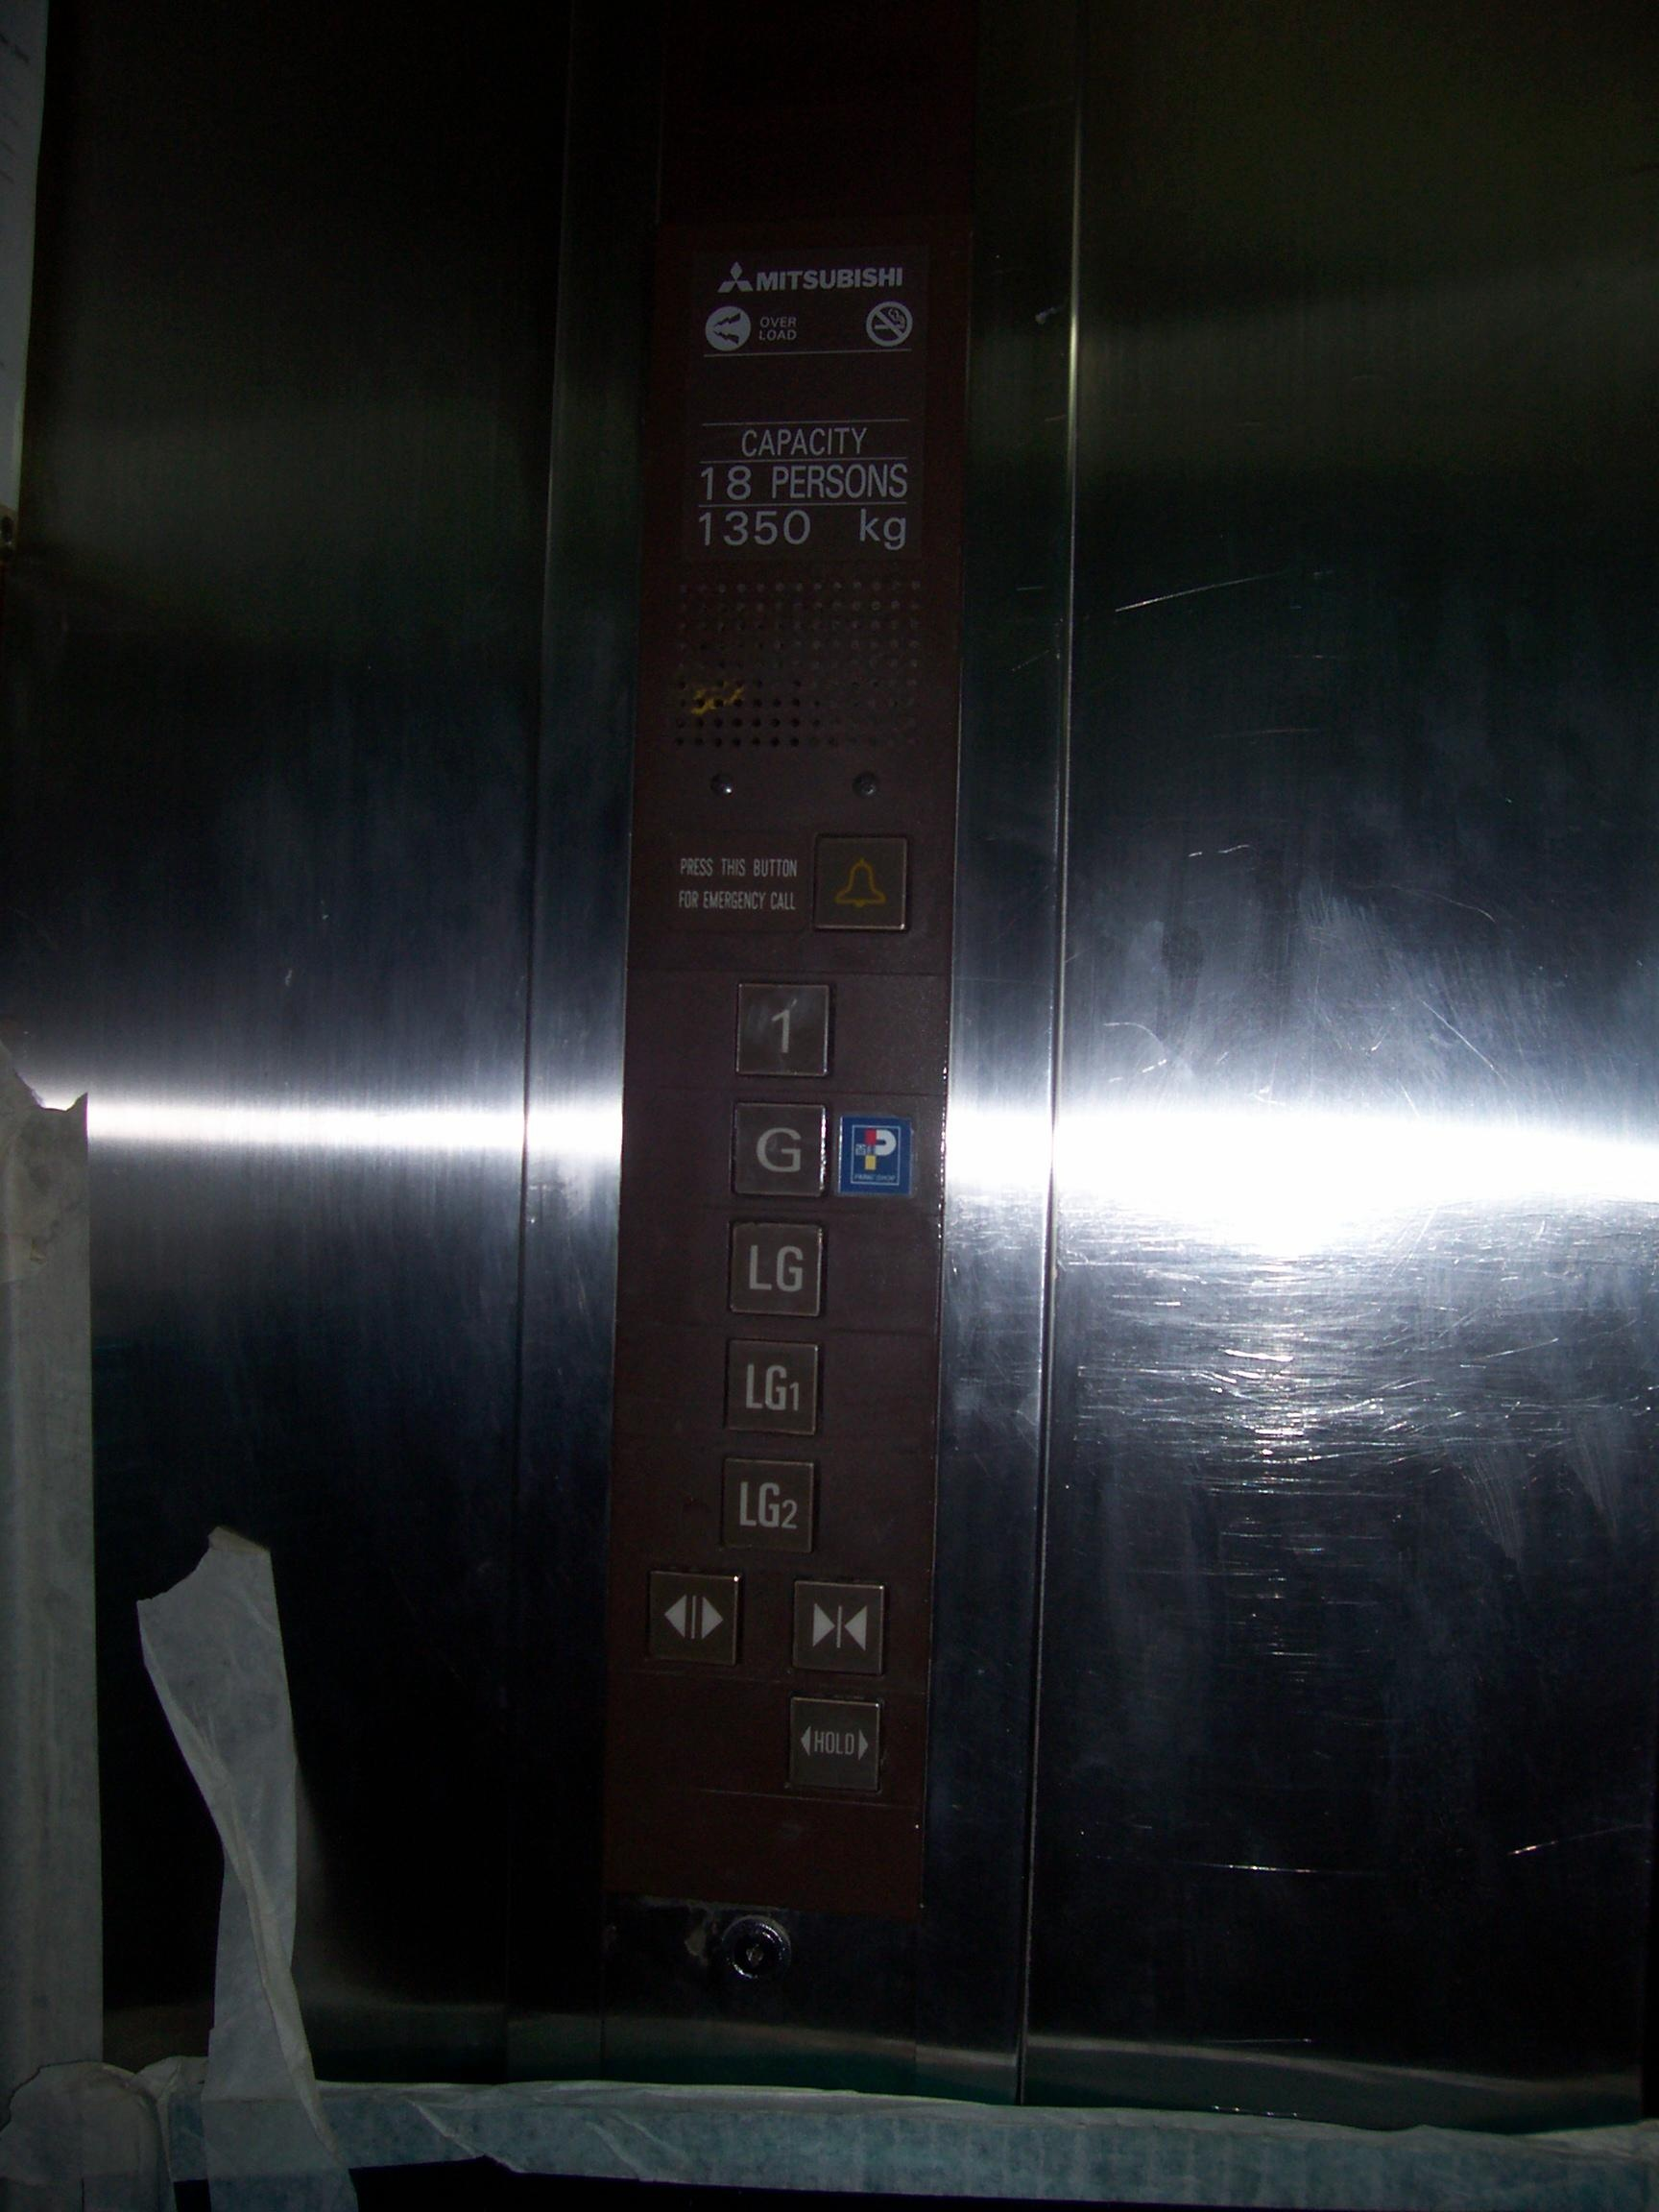1: (734, 979, 833, 1082)
G: (728, 1101, 831, 1198)
LG: (723, 1216, 826, 1320)
LG1: (723, 1334, 823, 1439)
LG2: (720, 1456, 817, 1555)
alarm: (816, 833, 911, 935)
close: (789, 1573, 887, 1676)
keyhole: (720, 1914, 796, 1984)
open: (645, 1568, 741, 1665)
unknown: (788, 1693, 882, 1796)
